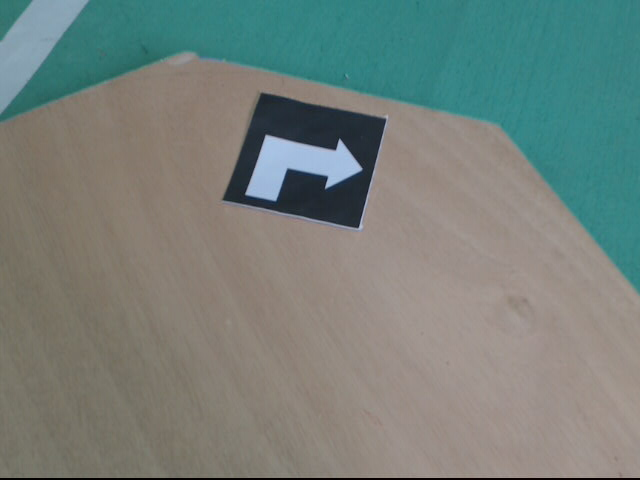right: (224, 93, 390, 231)
